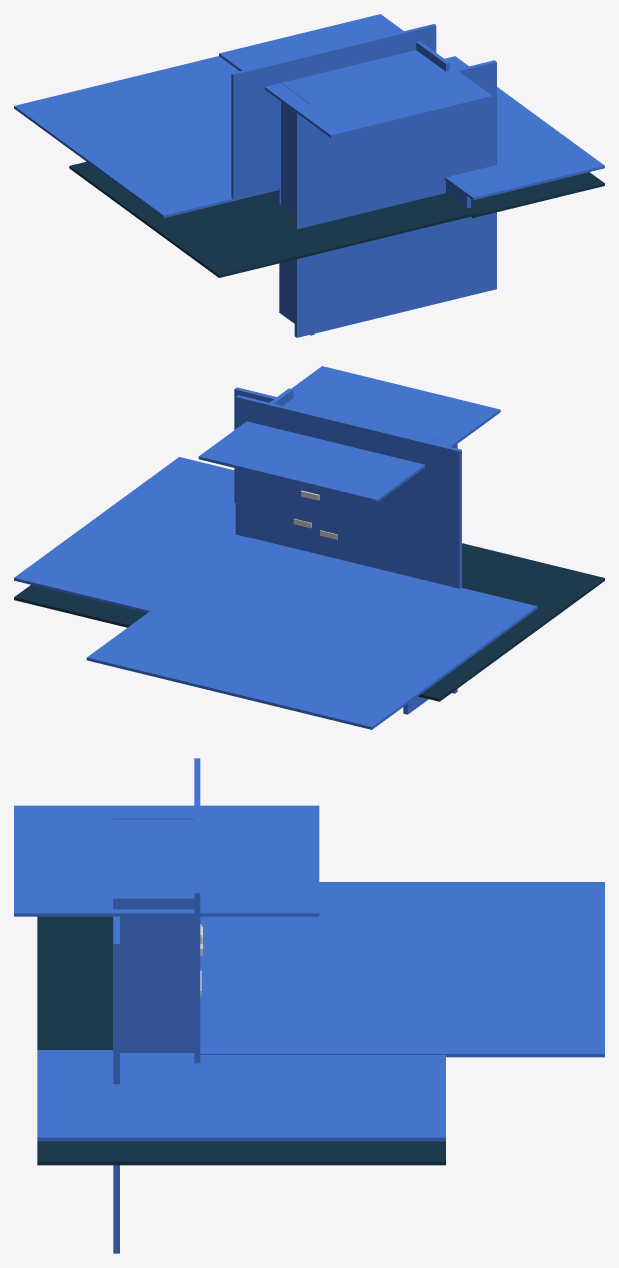
The model's file is world.glb.
3 renders of one model, top to bottom at view 1: azimuth 30°, elevation 25°; view 2: azimuth 150°, elevation 25°; view 3: azimuth 270°, elevation 25°, orthographic. The views are drawn at different scales.
Visible parts, largest first — view 1: Cube.021, Cube.003, Cube, Cube.014, Cube.006, Cube.024, Cube.022, Cube.011, Cube.005; view 2: Cube.003, Cube.006, Cube.024, Cube, Cube.014, Cube.011, Cube.021; view 3: Cube.003, Cube.024, Cube, Cube.005, Cube.011, Cube.014, Cube.006, Cube.021.
Boxes of the visible parts, x1=… form: Cube.021: x1=294, y1=60, x2=496, y2=337; Cube.003: x1=14, y1=56, x2=278, y2=217; Cube: x1=219, y1=14, x2=492, y2=137; Cube.014: x1=69, y1=161, x2=477, y2=277; Cube.006: x1=231, y1=24, x2=436, y2=199; Cube.024: x1=444, y1=56, x2=604, y2=200; Cube.022: x1=279, y1=81, x2=314, y2=335; Cube.011: x1=471, y1=172, x2=604, y2=217; Cube.005: x1=416, y1=41, x2=449, y2=177; Cube.003: x1=86, y1=537, x2=537, y2=729; Cube.006: x1=235, y1=395, x2=461, y2=588; Cube.024: x1=14, y1=457, x2=249, y2=612; Cube: x1=198, y1=366, x2=500, y2=502; Cube.014: x1=418, y1=543, x2=604, y2=701; Cube.011: x1=14, y1=585, x2=146, y2=627; Cube.021: x1=234, y1=387, x2=457, y2=693; Cube.003: x1=200, y1=882, x2=604, y2=1057; Cube.024: x1=37, y1=1050, x2=445, y2=1141; Cube: x1=14, y1=805, x2=319, y2=916; Cube.005: x1=113, y1=896, x2=194, y2=1052; Cube.011: x1=37, y1=1141, x2=445, y2=1165; Cube.014: x1=37, y1=916, x2=112, y2=1049; Cube.006: x1=194, y1=758, x2=200, y2=1063; Cube.021: x1=113, y1=916, x2=119, y2=1253.
Bounding box in the file's own units: 106 × 65.53 × 103.
